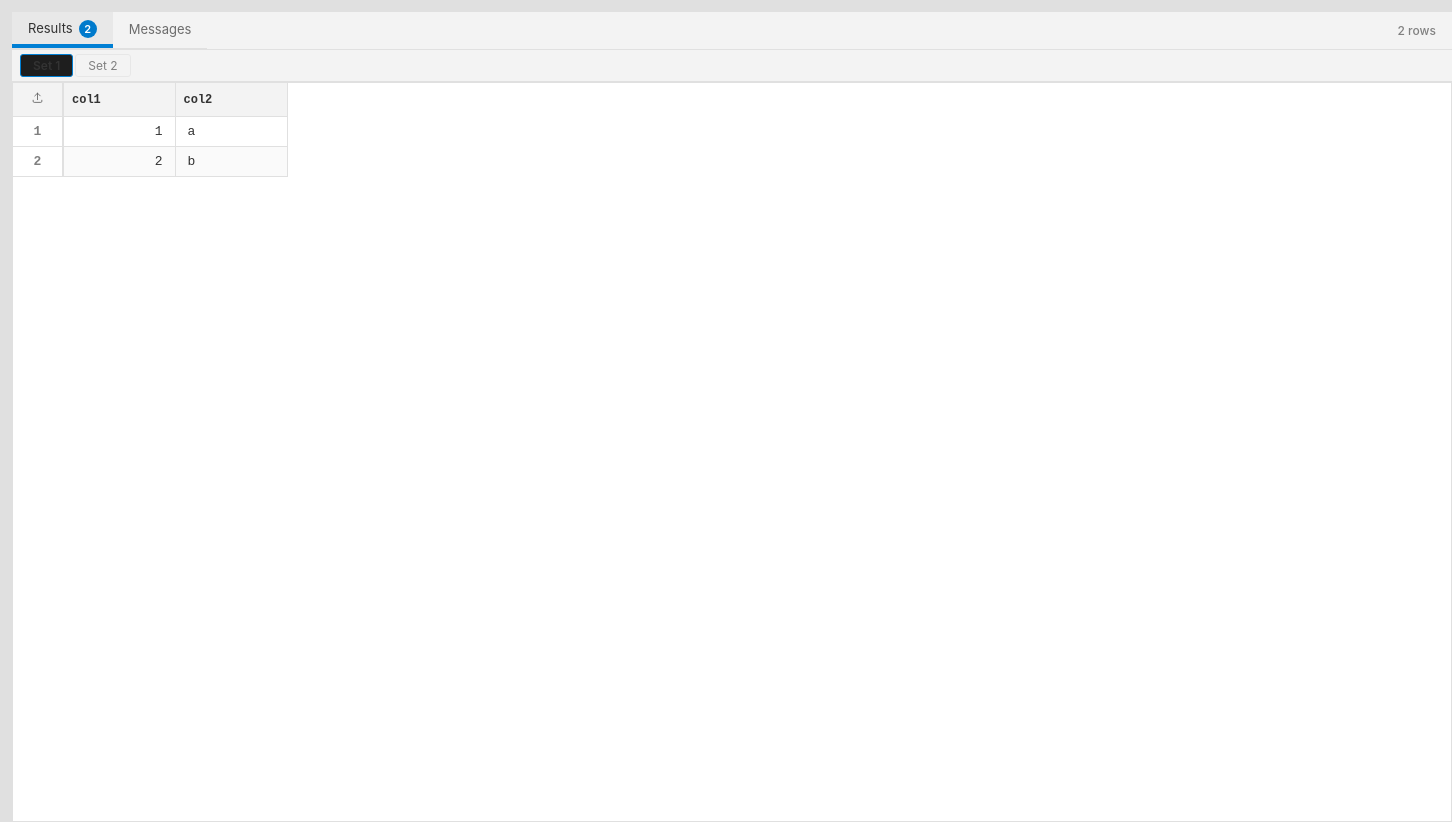
Scenario: ResultsPanel - multiple result sets display mode › resets row count back to Set 1 when switching from Set 2 back to Set 1
// Go to Set 2 (4 rows)
Click the button "Set 2". click: (103, 66)
box: [75, 54, 131, 77]
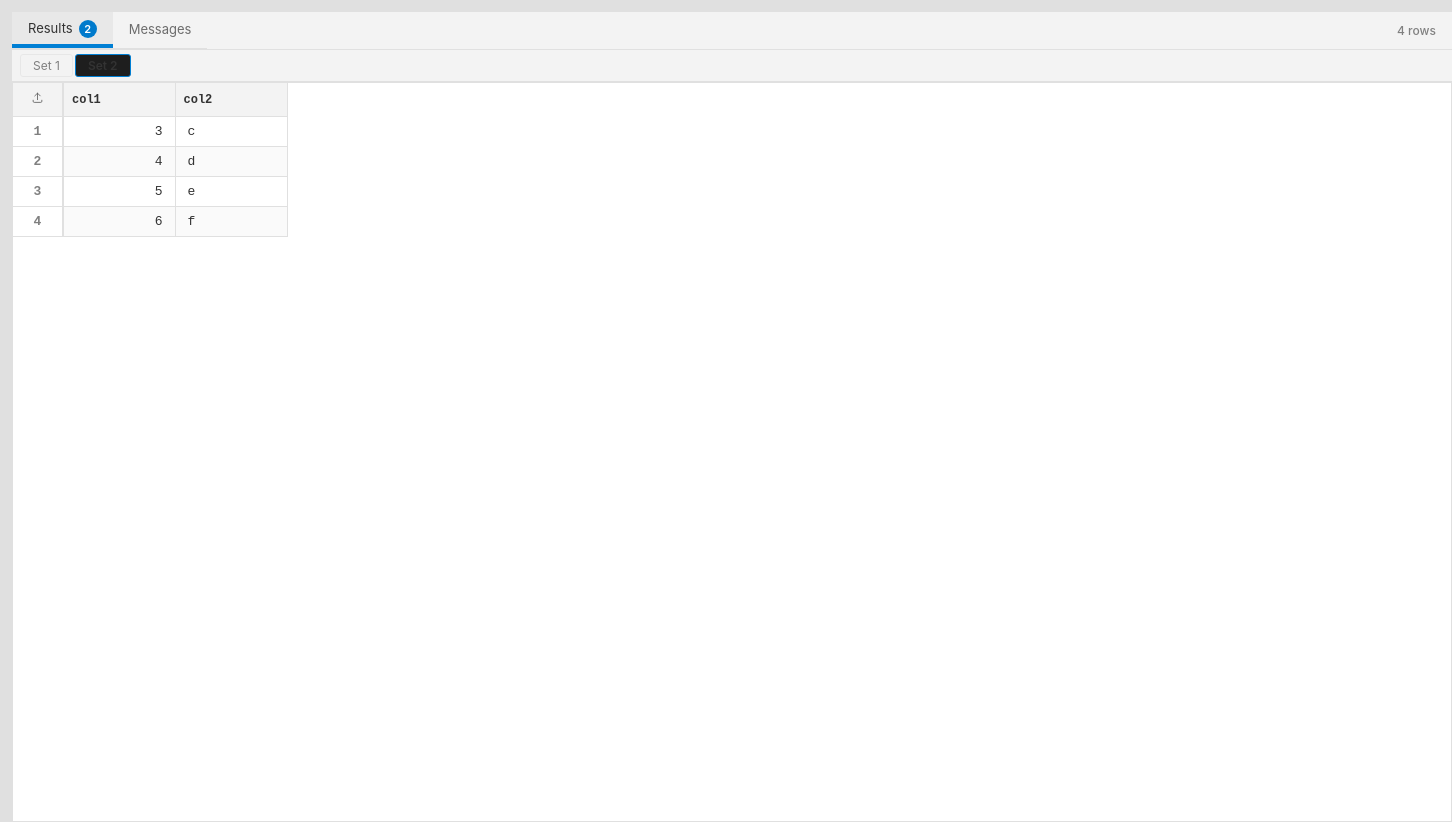
Expected: the text "4 rows" is shown, [1397, 23, 1436, 38]
// Go back to Set 1 (2 rows)
Click the button "Set 1". click: (46, 66)
box: [20, 54, 73, 77]
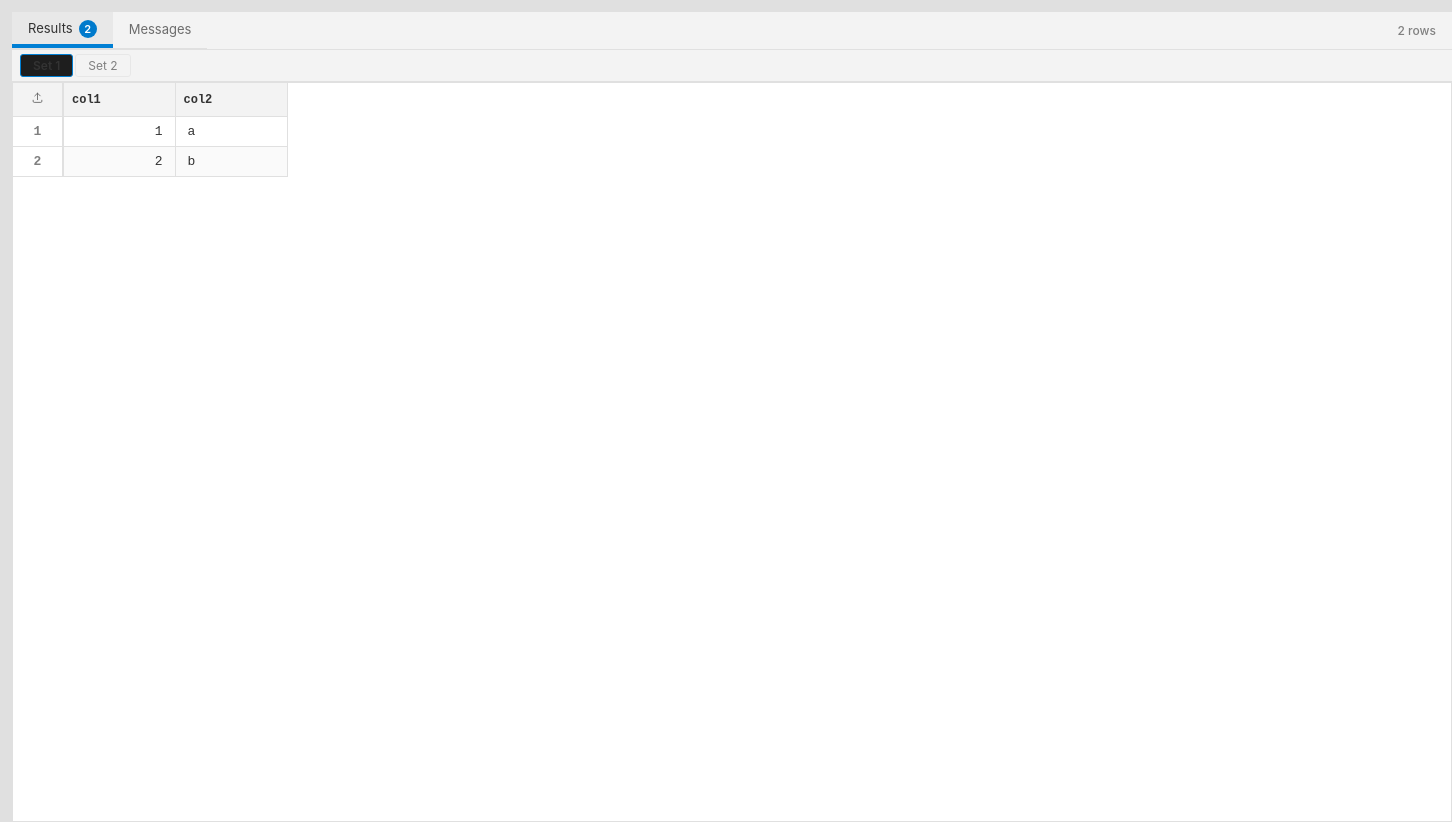
Expected: the text "2 rows" is shown, [1398, 23, 1436, 38]
Expected: the text "4 rows" is gone
